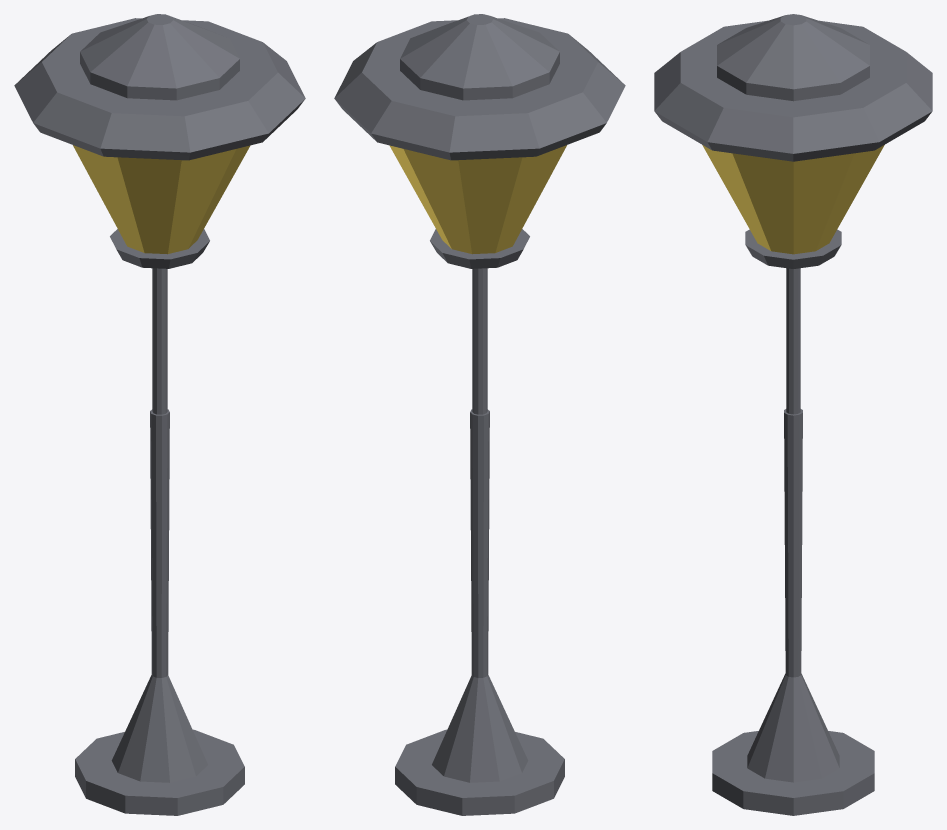
File: Lamp Post.fbx
3 renders of one model, left to right at view 1: azimuth 30°, elevation 25°; view 2: azimuth 150°, elevation 25°; view 3: azimuth 270°, elevation 25°, orthographic.
Visible parts, largest first — view 1: Lamp_post; view 2: Lamp_post; view 3: Lamp_post.
Part boxes in pixels (x1,y1,x2,y2): Lamp_post: (14, 14, 305, 815); Lamp_post: (334, 14, 625, 815); Lamp_post: (654, 14, 932, 815).
Size of the model in its own units: 78.31 by 224 by 74.48.
